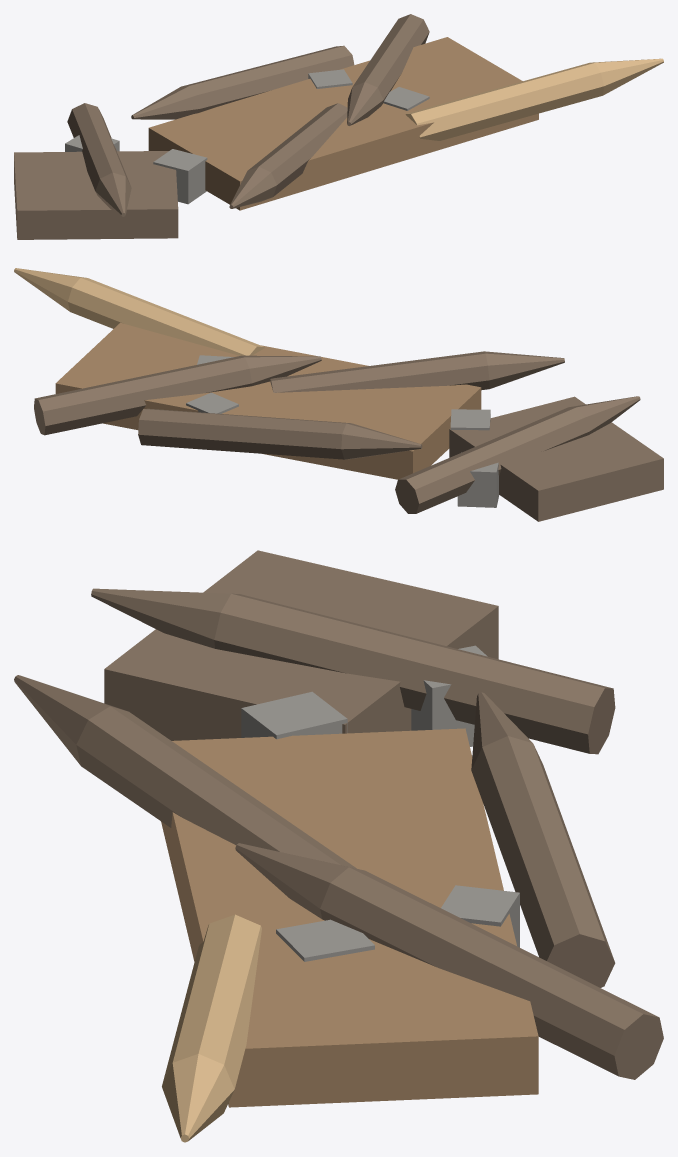
File: ws_ruin_gate_barricade.glb
The picture shows the model from 3 angles, top to bottom: view 1: azimuth 30°, elevation 25°; view 2: azimuth 150°, elevation 25°; view 3: azimuth 270°, elevation 25°; orthographic projection. The views are drawn at different scales.
Parts seen in each view (by area): view 1: ws_ruin_gate_barricade; view 2: ws_ruin_gate_barricade; view 3: ws_ruin_gate_barricade.
Part boxes in pixels (x1,y1,x2,y2): ws_ruin_gate_barricade: [14, 14, 663, 239]; ws_ruin_gate_barricade: [14, 268, 663, 521]; ws_ruin_gate_barricade: [14, 550, 663, 1142].
Bounding box in the file's own units: 1.57 × 0.1266 × 0.7101.
